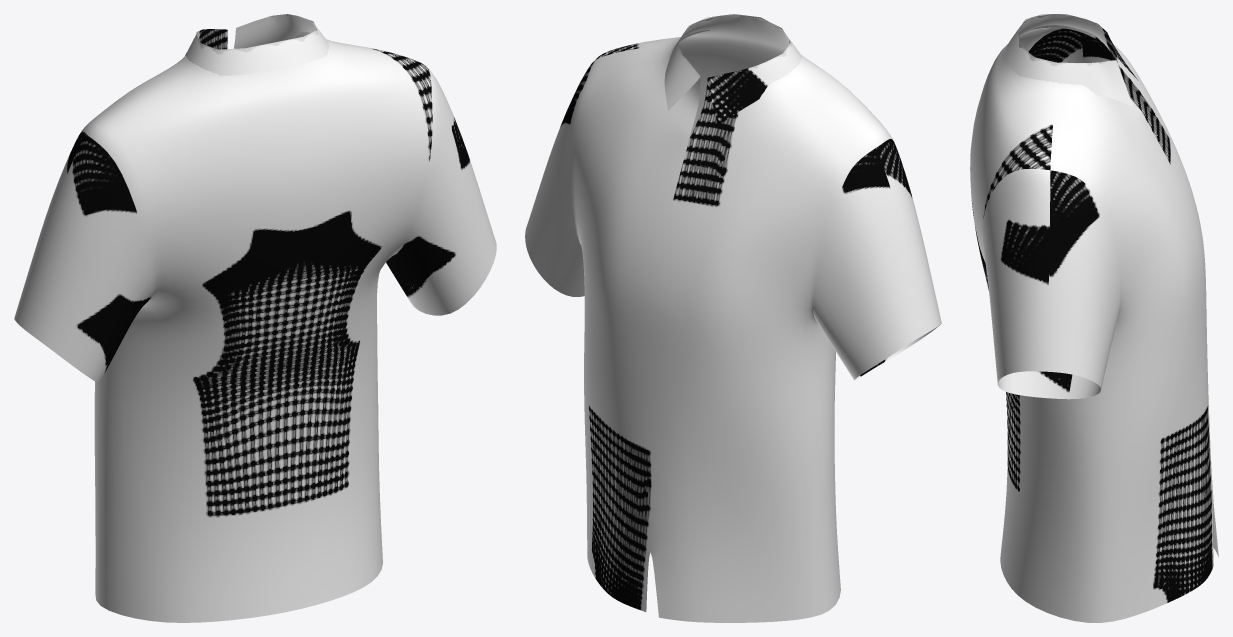
File: kemeja-pendek.obj
The picture shows the model from 3 angles, left to right: view 1: azimuth 30°, elevation 25°; view 2: azimuth 150°, elevation 25°; view 3: azimuth 270°, elevation 25°; orthographic projection. The views are drawn at different scales.
Visible parts, largest first — view 1: 5.041; view 2: 5.041; view 3: 5.041.
Part boxes in pixels (x1,y1,x2,y2): 5.041: (14,14,496,622); 5.041: (525,14,941,622); 5.041: (970,14,1218,622).
Bounding box in the file's own units: 0.6441 × 0.7835 × 0.3327.
